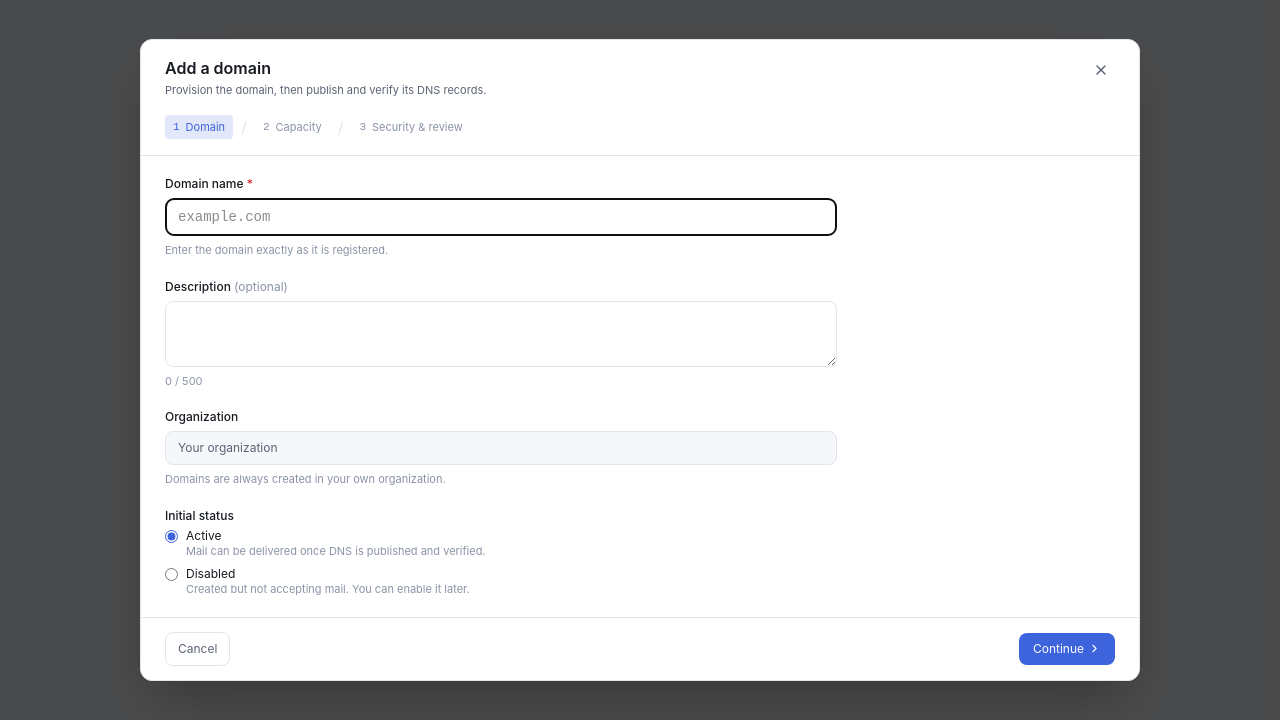
Test case: stage navigation › shows a live normalization preview
Type "  EXAMPLE.Com.  " into the field labelled "Domain name *" at (501, 217), box [165,198,837,236]
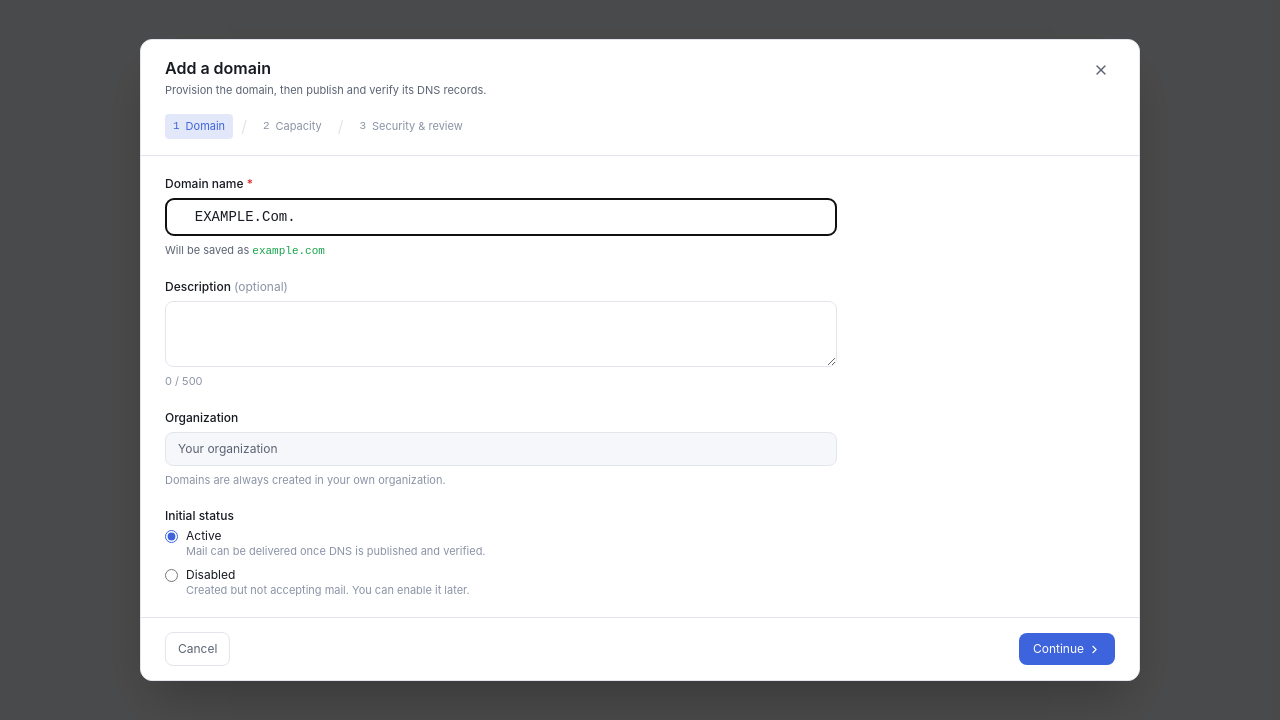
Expected: the text "example.com" is shown, [252,245,325,257]
Replace the text in the field labelled "Domain name *" with "user@example.com" at (501, 217), box [165,198,837,236]
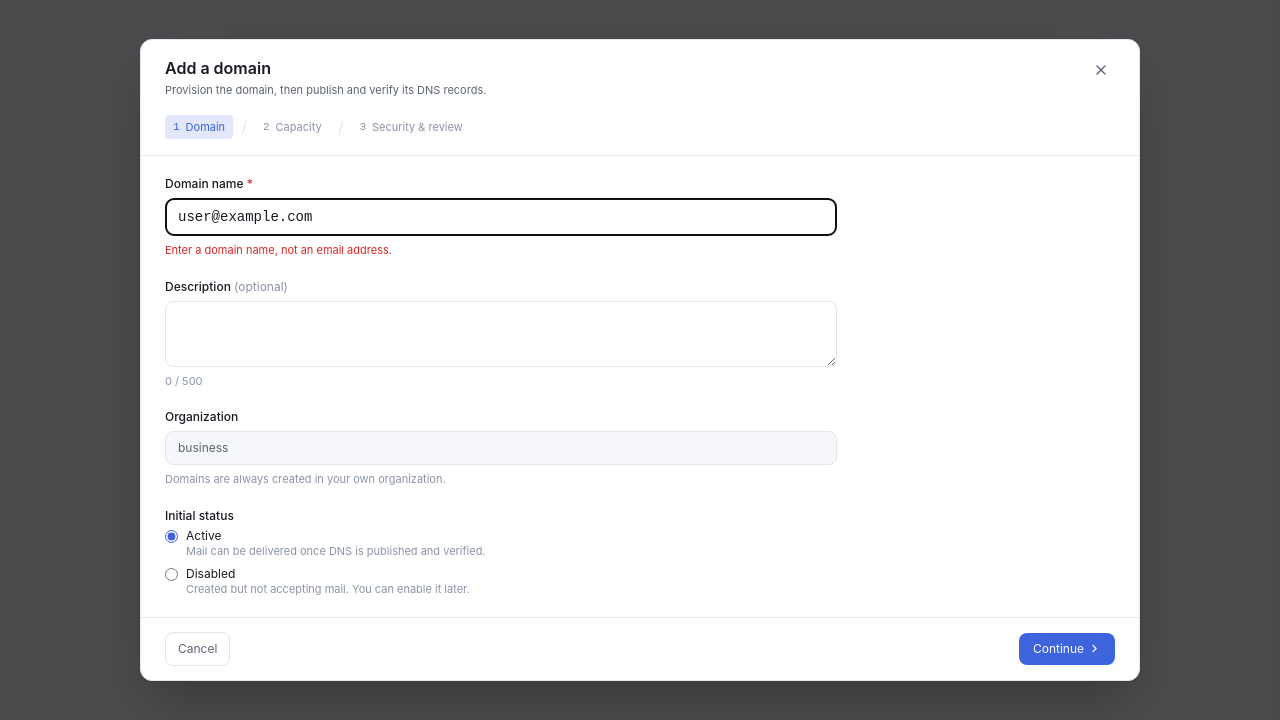
Expected: the element with test id "normalization-preview" shows "not an email address", [165,243,392,257]
